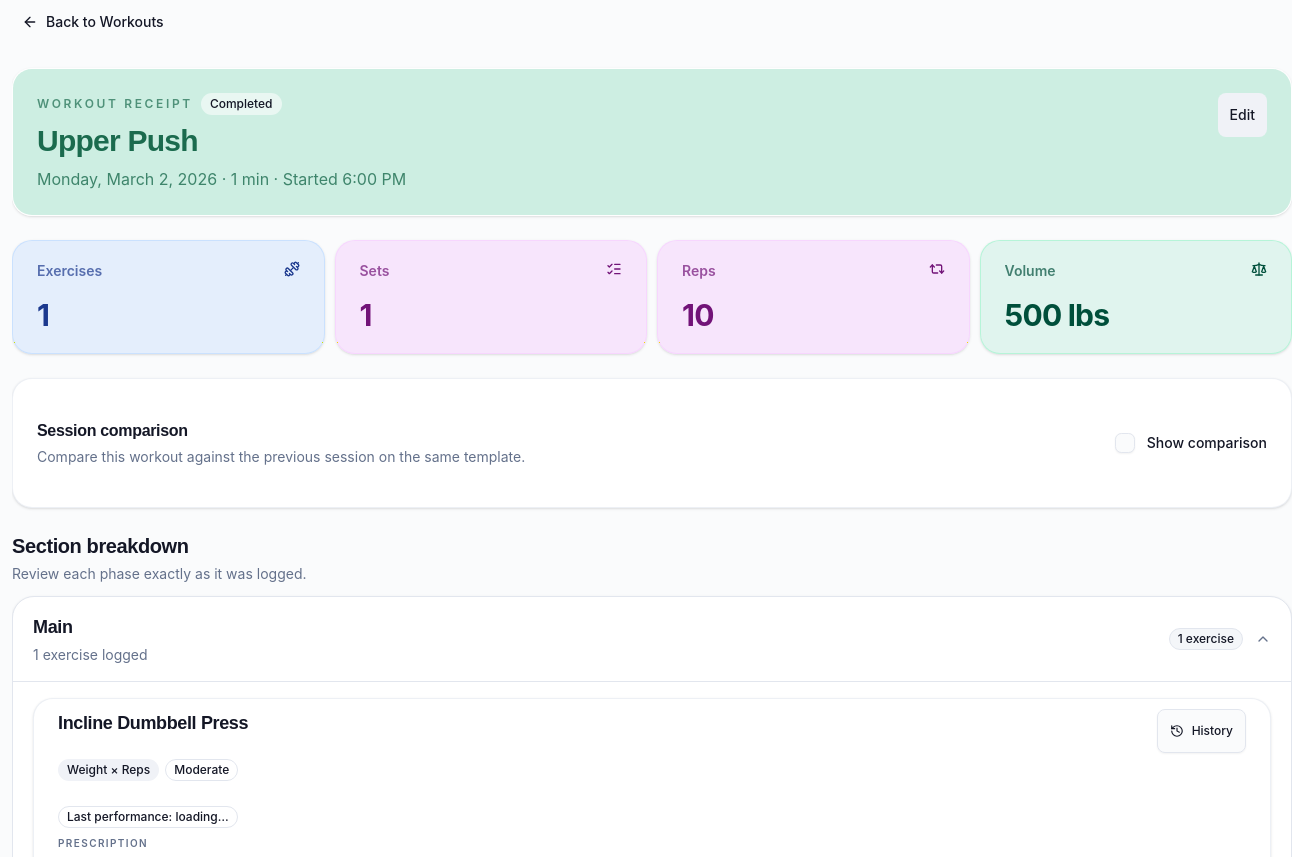
Test: SessionDetail › shows volume progression, deltas, and PR badges when comparison is enabled
Expected: the text "Workout receipt" is shown, top-left (37, 96), bottom-right (193, 112)
Click the checkbox named "show comparison" at (1125, 443), box top-left (1115, 433), bottom-right (1135, 453)
(page scrolled)
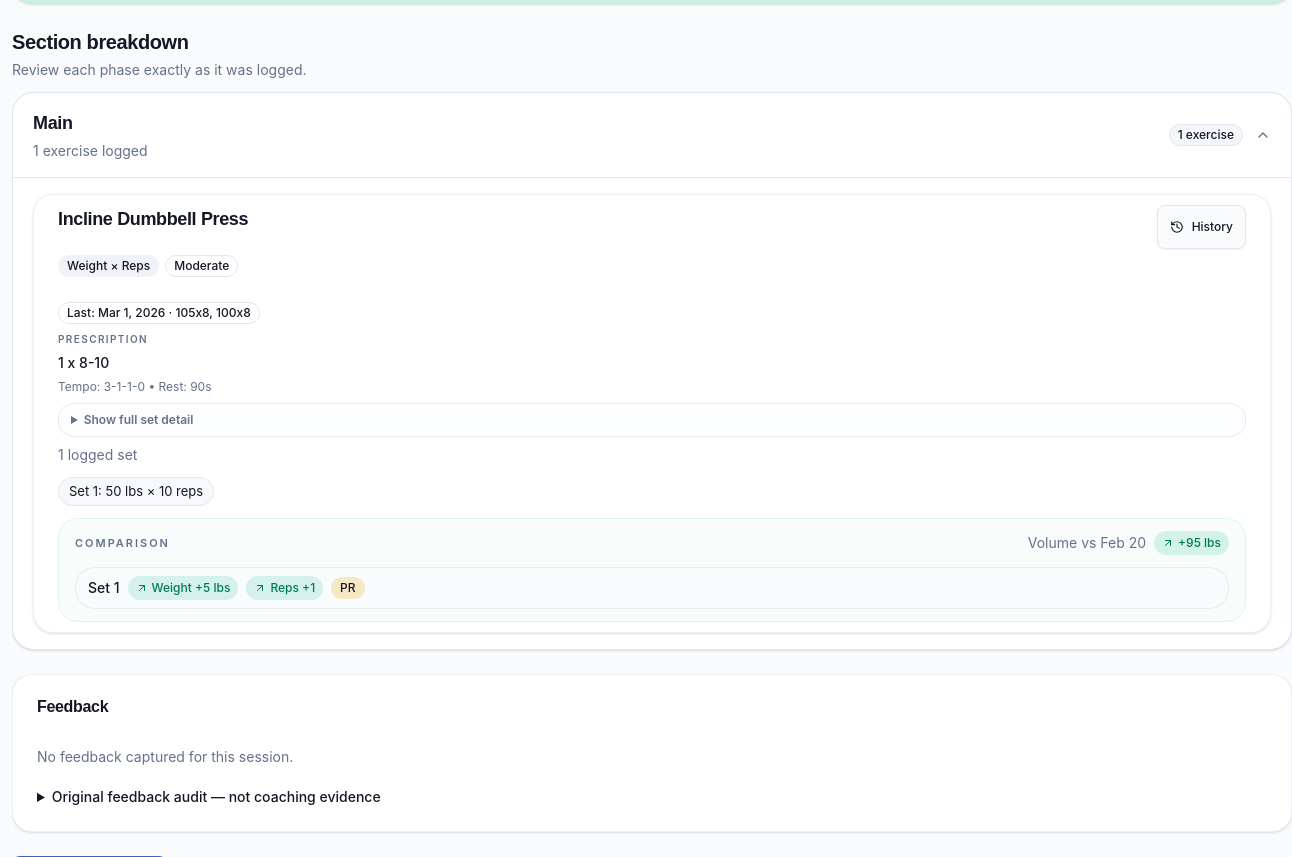
Result: the text "Volume vs Feb 20" is shown at top-left (1028, 533), bottom-right (1146, 553)
Result: the text "Weight +5 lbs" is shown at top-left (128, 576), bottom-right (238, 600)
Result: the text "Reps +1" is shown at top-left (246, 576), bottom-right (323, 600)
